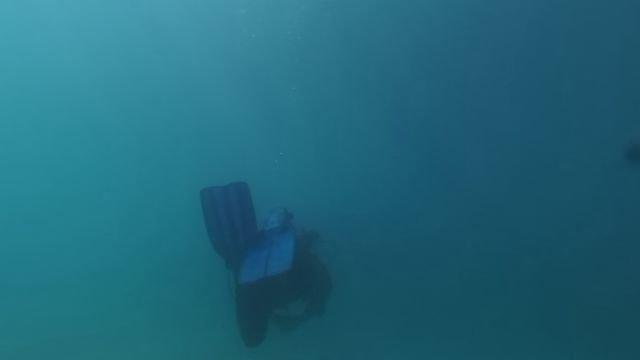Diver: (186, 155, 347, 346)
